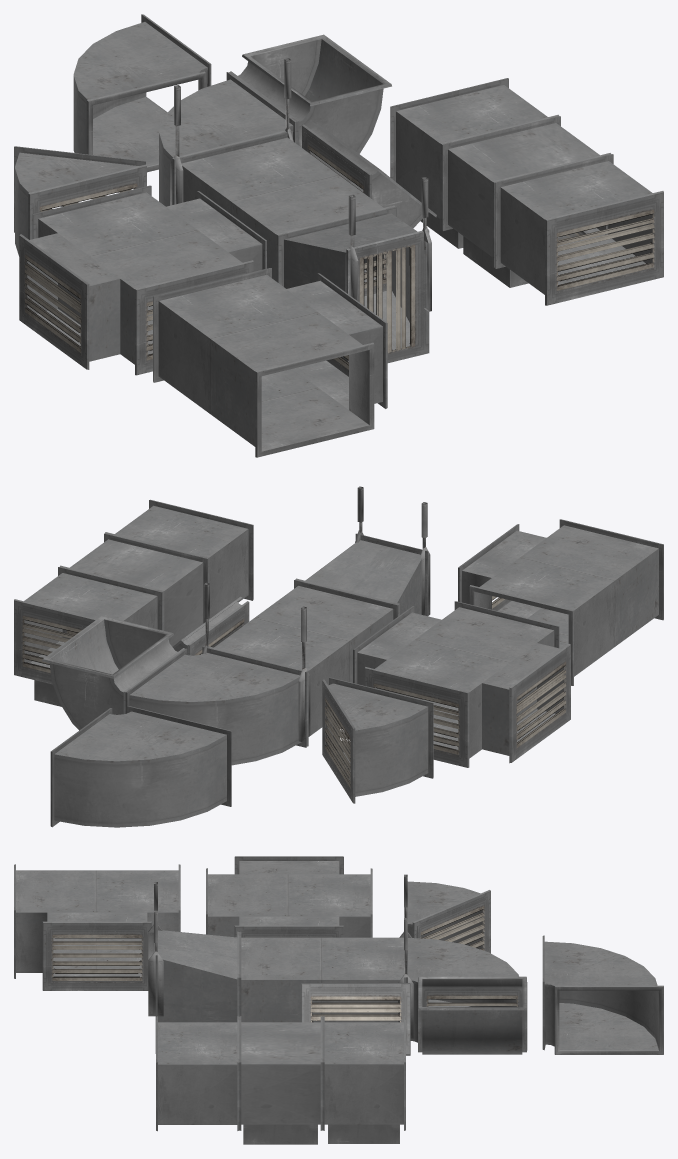
The model's file is AirductsModelsNewGrilless.fbx.
3 views of the same model, one above another, from view 1: azimuth 30°, elevation 25°; view 2: azimuth 150°, elevation 25°; view 3: azimuth 270°, elevation 25° (orthographic). The views are drawn at different scales.
Parts seen in each view (by area): view 1: NewAirduct_Junction_002, NewAirduct_Junction_001, NewAirduct_Straight_001, NewAirduct_Straight_000, NewAirduct_Rotation_000, NewAirduct_Bend_001, NewAirduct_Straight_ExtractionArmConnection, NewAirduct_Bend_003, NewAirduct_Straight_002, NewAirduct_Bend_001.001, NewAirduct_Bend_002, NewAirduct_Bend_004 (+2 smaller); view 2: NewAirduct_Junction_001, NewAirduct_Junction_002, NewAirduct_Bend_001, NewAirduct_Bend_001.001, NewAirduct_Straight_000, NewAirduct_Bend_002, NewAirduct_Straight_002, NewAirduct_Bend_003, NewAirduct_Straight_001, NewAirduct_Straight_ExtractionArmConnection, NewAirduct_Rotation_000, NewAirduct_Bend_004 (+2 smaller); view 3: NewAirduct_Junction_002, NewAirduct_Junction_001, NewAirduct_Bend_001, NewAirduct_Straight_000, NewAirduct_Straight_ExtractionArmConnection, NewAirduct_Straight_002, NewAirduct_Straight_001, NewAirduct_Bend_003, NewAirduct_Rotation_000, NewAirduct_Bend_002, NewAirduct_Bend_004, NewAirduct_Bend_001.001 (+2 smaller).
Boxes of the visible parts, x1,y1,x2,y2 form: NewAirduct_Junction_002: [153, 268, 387, 457]; NewAirduct_Junction_001: [19, 185, 266, 375]; NewAirduct_Straight_001: [495, 154, 663, 305]; NewAirduct_Straight_000: [174, 131, 394, 282]; NewAirduct_Rotation_000: [278, 207, 429, 362]; NewAirduct_Bend_001: [73, 14, 211, 172]; NewAirduct_Straight_ExtractionArmConnection: [442, 116, 610, 287]; NewAirduct_Bend_003: [229, 34, 391, 153]; NewAirduct_Straight_002: [390, 78, 558, 248]; NewAirduct_Bend_001.001: [159, 72, 296, 206]; NewAirduct_Bend_002: [14, 146, 146, 256]; NewAirduct_Bend_004: [302, 119, 436, 228]; NewAirduct_Junction_001: [353, 601, 570, 767]; NewAirduct_Junction_002: [458, 519, 663, 685]; NewAirduct_Bend_001: [50, 706, 231, 827]; NewAirduct_Bend_001.001: [125, 646, 306, 765]; NewAirduct_Straight_000: [204, 579, 398, 746]; NewAirduct_Bend_002: [322, 677, 433, 803]; NewAirduct_Straight_002: [14, 567, 162, 706]; NewAirduct_Bend_003: [42, 616, 184, 730]; NewAirduct_Straight_001: [105, 499, 253, 619]; NewAirduct_Straight_ExtractionArmConnection: [60, 533, 208, 646]; NewAirduct_Rotation_000: [295, 533, 428, 616]; NewAirduct_Bend_004: [172, 596, 249, 655]; NewAirduct_Junction_002: [14, 864, 180, 990]; NewAirduct_Junction_001: [206, 856, 372, 937]; NewAirduct_Bend_001: [542, 935, 663, 1054]; NewAirduct_Straight_000: [239, 931, 405, 1022]; NewAirduct_Straight_ExtractionArmConnection: [239, 1016, 322, 1144]; NewAirduct_Straight_002: [322, 1016, 405, 1143]; NewAirduct_Straight_001: [156, 1016, 239, 1131]; NewAirduct_Bend_003: [418, 976, 526, 1054]; NewAirduct_Rotation_000: [155, 930, 239, 1053]; NewAirduct_Bend_002: [407, 881, 490, 953]; NewAirduct_Bend_004: [301, 983, 410, 1055]; NewAirduct_Bend_001.001: [406, 934, 527, 1050].
Bounding box in the file's own units: 293 × 97.45 × 390.
